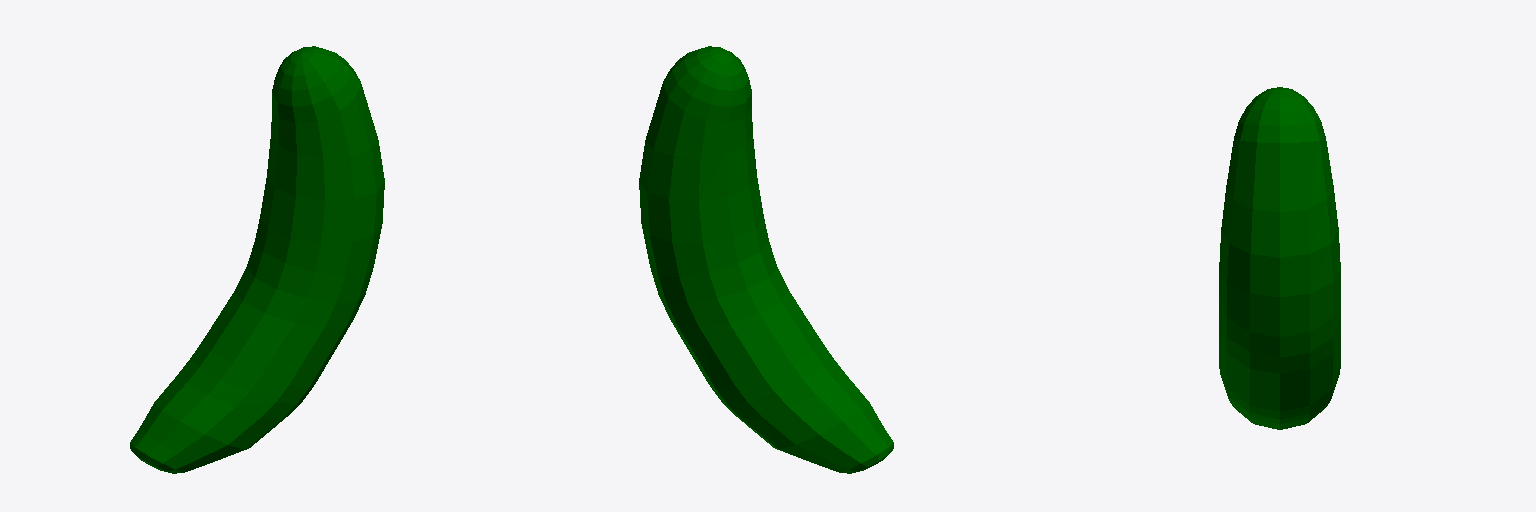
Rendered from CUCUMBER.obj.
The picture shows the model from 3 angles: view 1: azimuth 30°, elevation 25°; view 2: azimuth 150°, elevation 25°; view 3: azimuth 270°, elevation 25°; orthographic projection.
Parts seen in each view (by area): view 1: Sphere.003; view 2: Sphere.003; view 3: Sphere.003.
Boxes of the visible parts, <box> form: Sphere.003: <box>130,46,384,473</box>; Sphere.003: <box>639,46,893,473</box>; Sphere.003: <box>1219,87,1340,429</box>.
Bounding box in the file's own units: 0.5554 × 0.8452 × 0.2416.